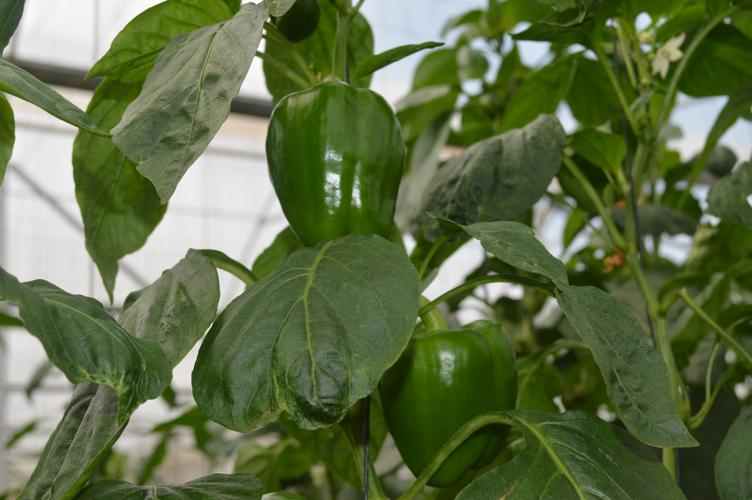BellPepper: (269, 79, 408, 241), (370, 321, 515, 475)
